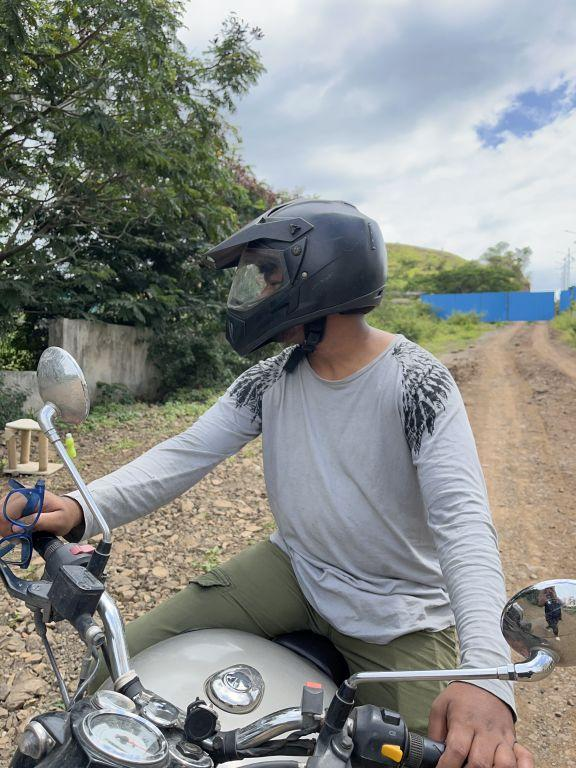helmet: (197, 180, 397, 381)
